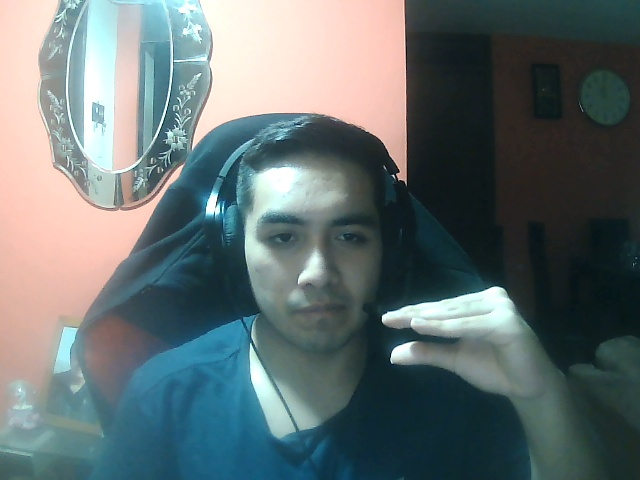no: (380, 278, 559, 403)
